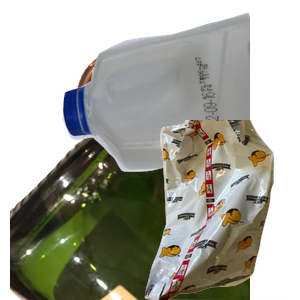glass: (10, 120, 250, 300)
metal: (74, 41, 229, 181)
plastic: (60, 10, 300, 175)
trash: (127, 120, 300, 300)
